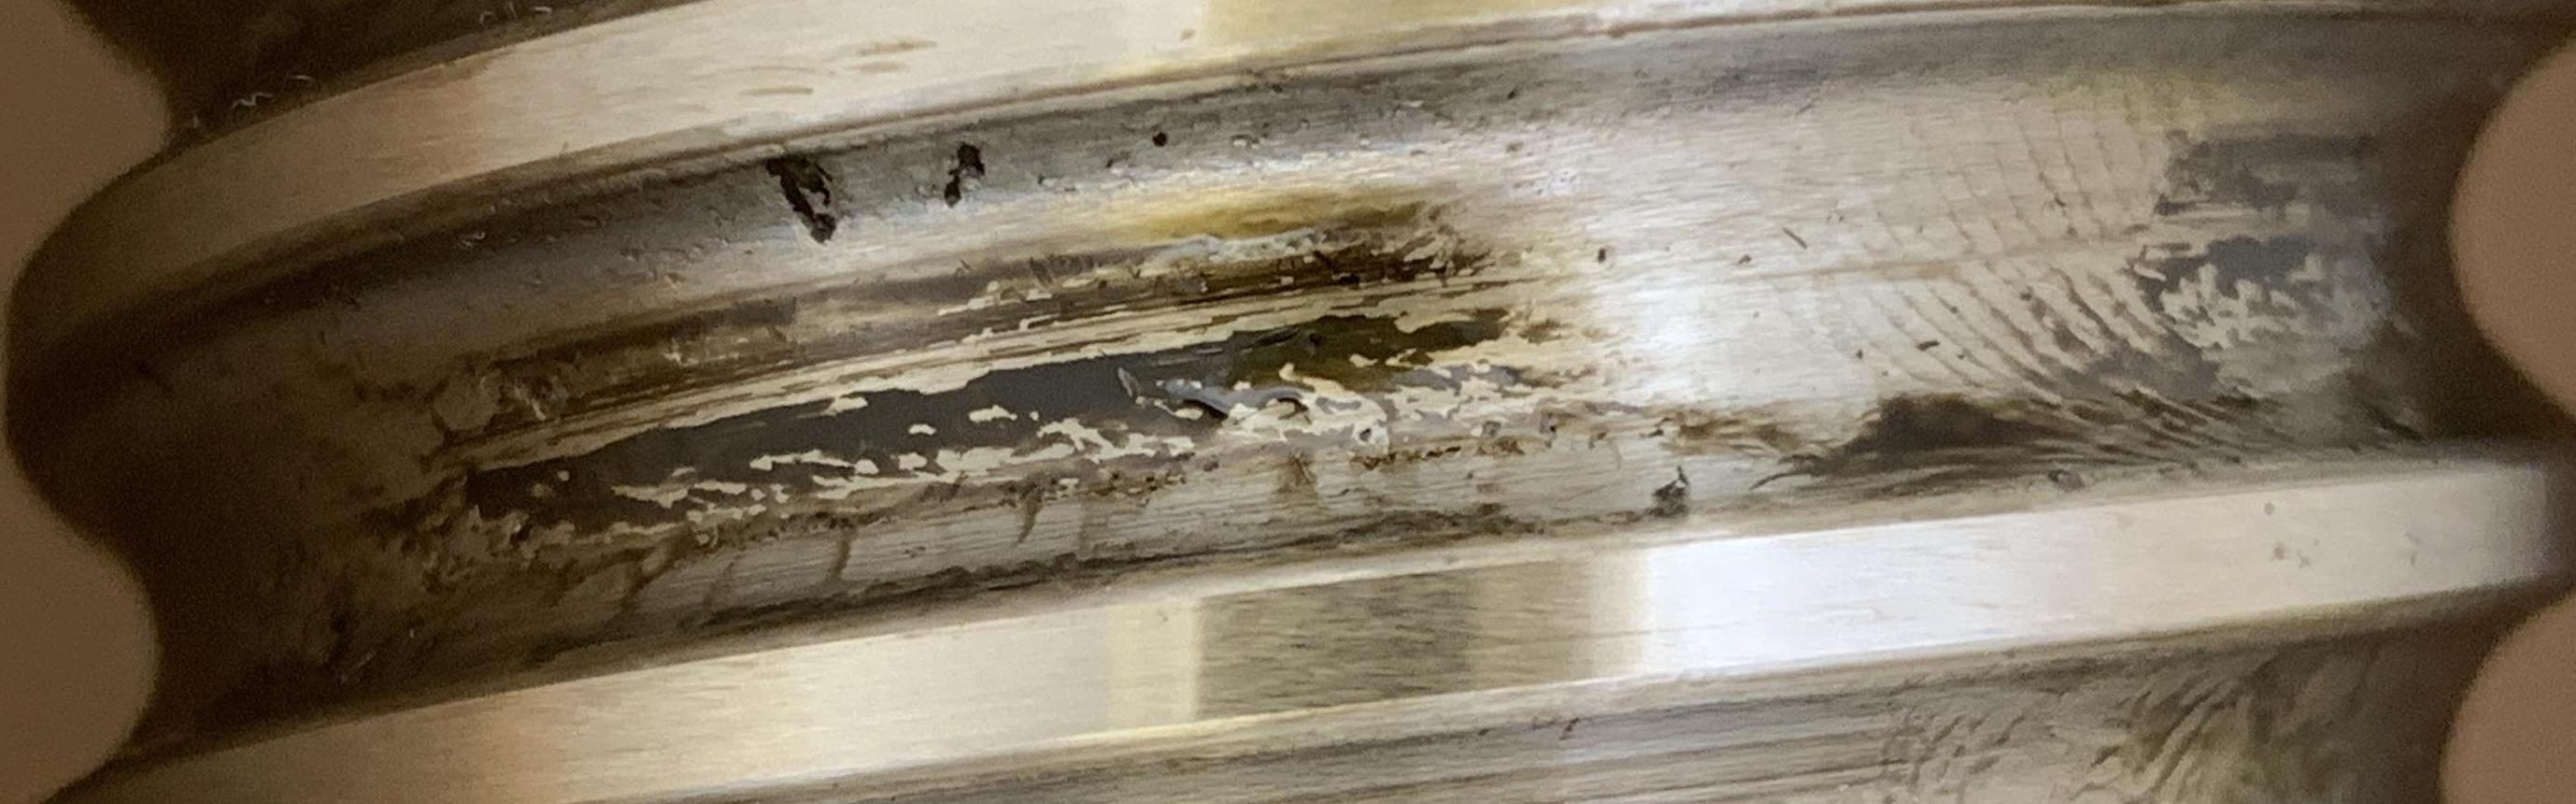pitting: (766, 153, 836, 245), (943, 141, 986, 207), (135, 363, 174, 391), (1152, 132, 1166, 146)
